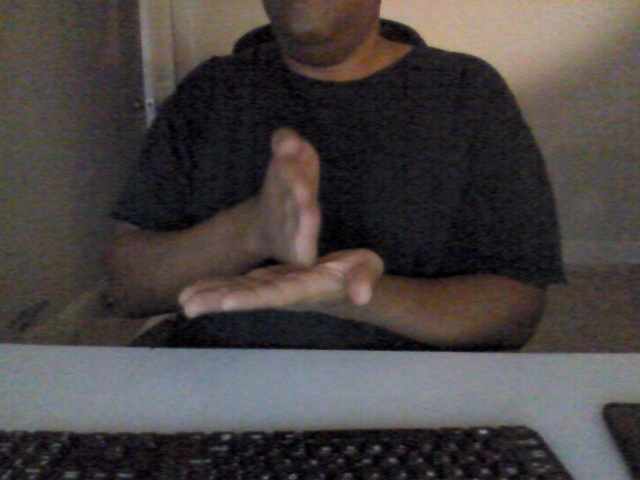stop: (174, 120, 403, 327)
